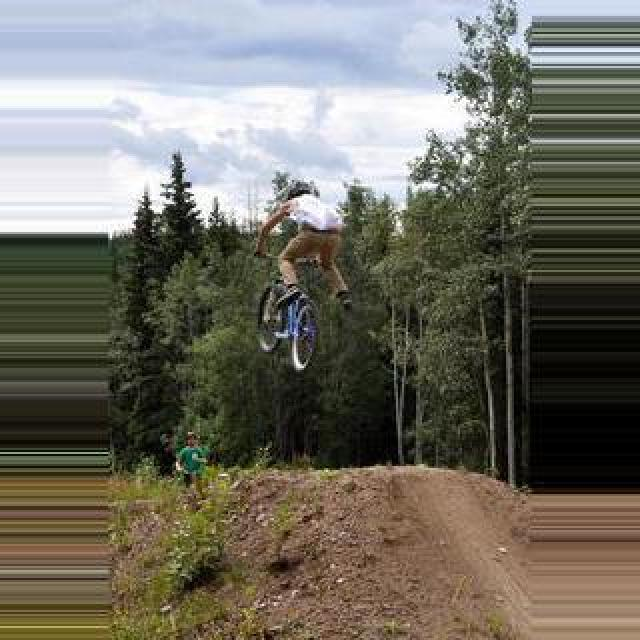MC-Bike: (254, 180, 352, 326), (176, 432, 210, 500)
Person: (254, 272, 320, 378)
